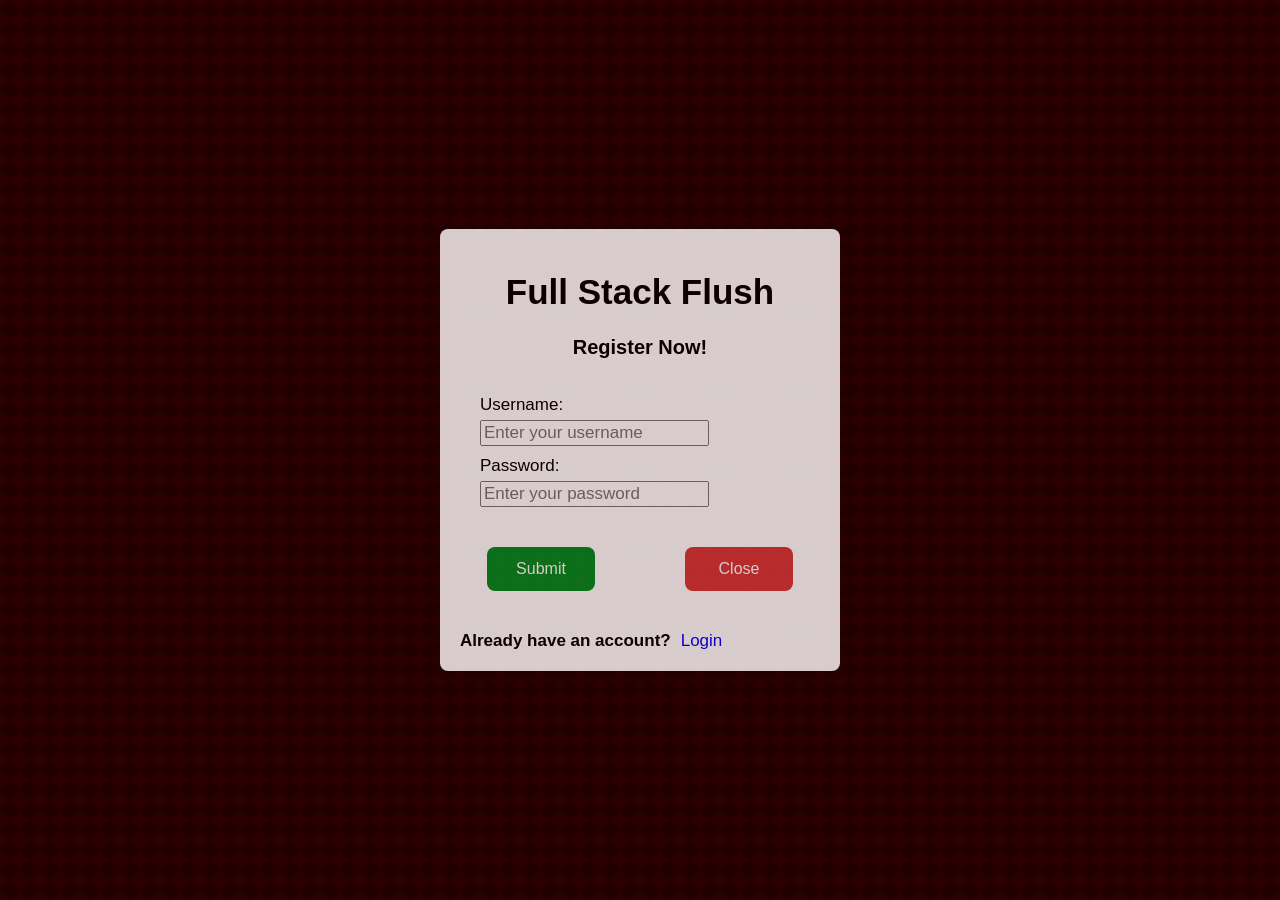
Scenario: Signup Component › handles signup failure
Type "testuser" into the field with placeholder "Enter your username" at [594, 433], box [480, 420, 709, 446]
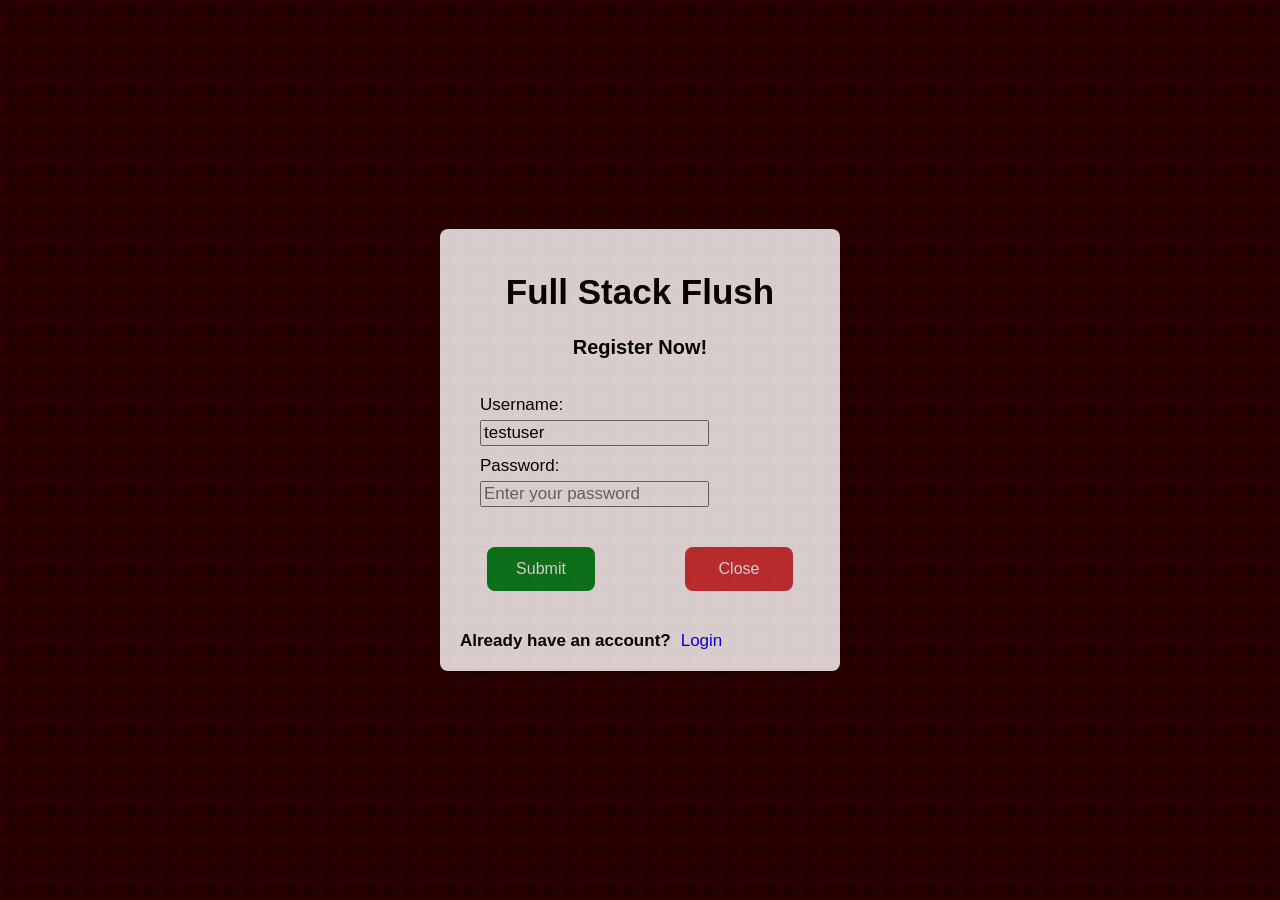
Type "testpassword" into the password field with placeholder "Enter your password" at [594, 494], box [480, 481, 709, 507]
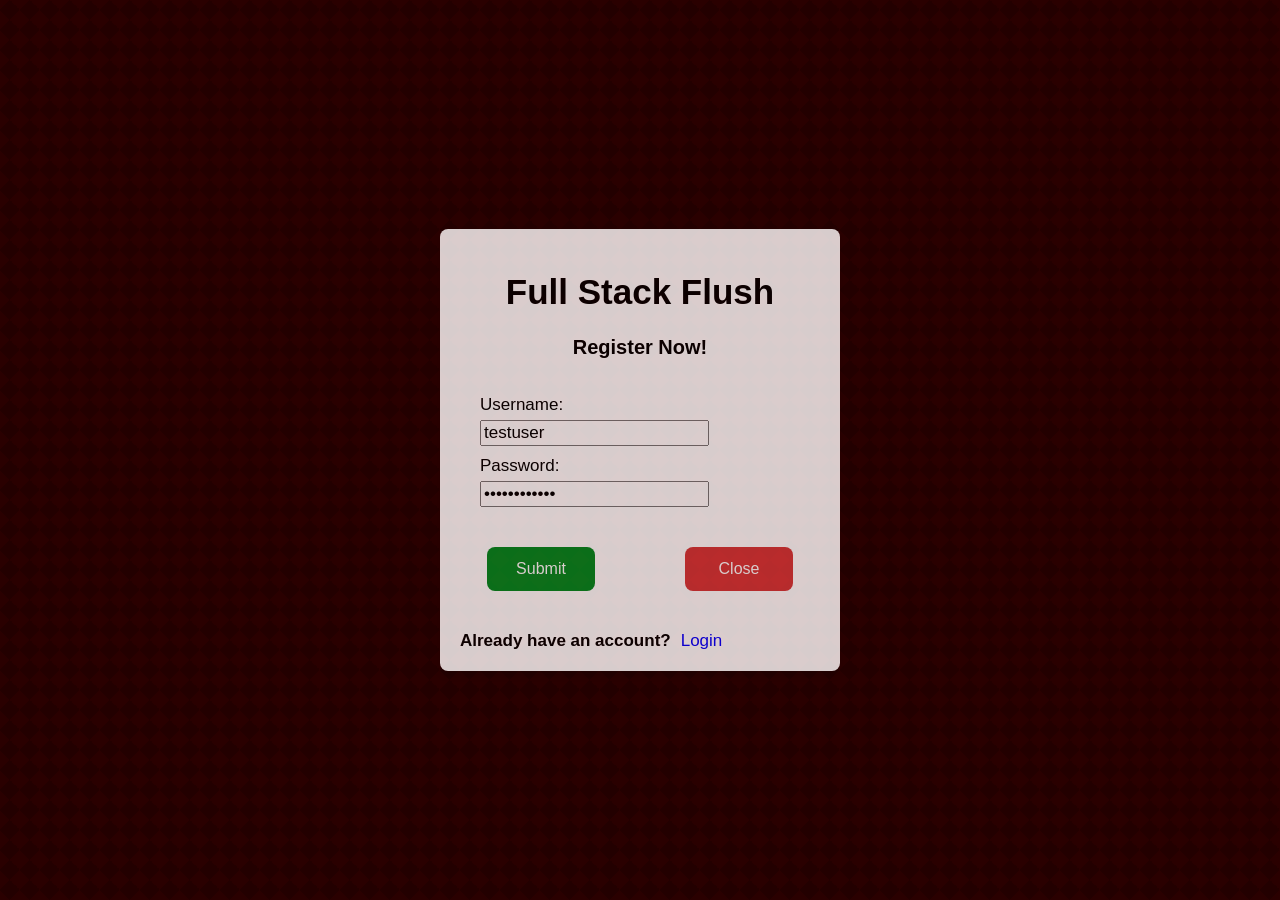
Click the button "Submit" at [541, 569], box [487, 547, 595, 591]
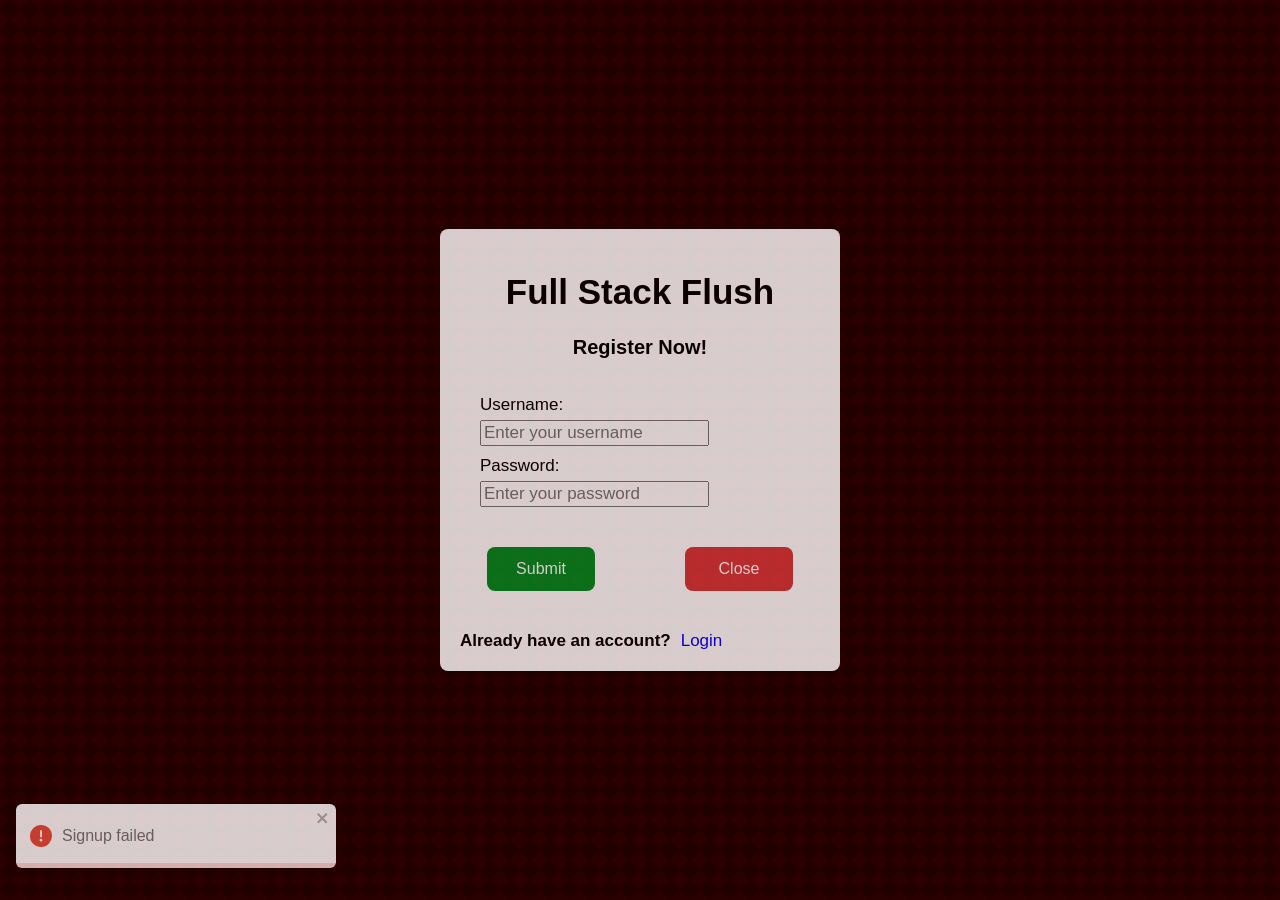
Expected: the text "Signup failed" is shown, [16, 804, 336, 868]
